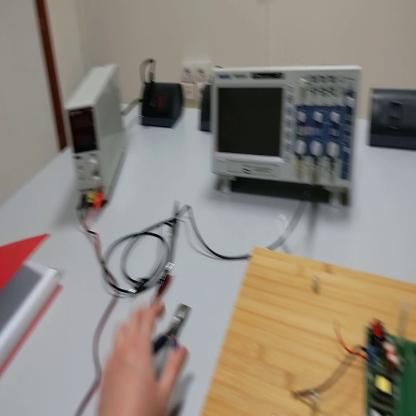hand: (98, 295, 187, 416)
low voltage board: (294, 308, 416, 413)
oscilloscope: (211, 65, 364, 214)
oscilloscope probe tip: (167, 198, 182, 263)
pliers: (152, 307, 198, 358)
power supply: (64, 64, 127, 213)
register: (2, 232, 60, 379)
socket: (140, 79, 185, 127), (201, 84, 212, 130)
working area: (202, 249, 416, 416)
